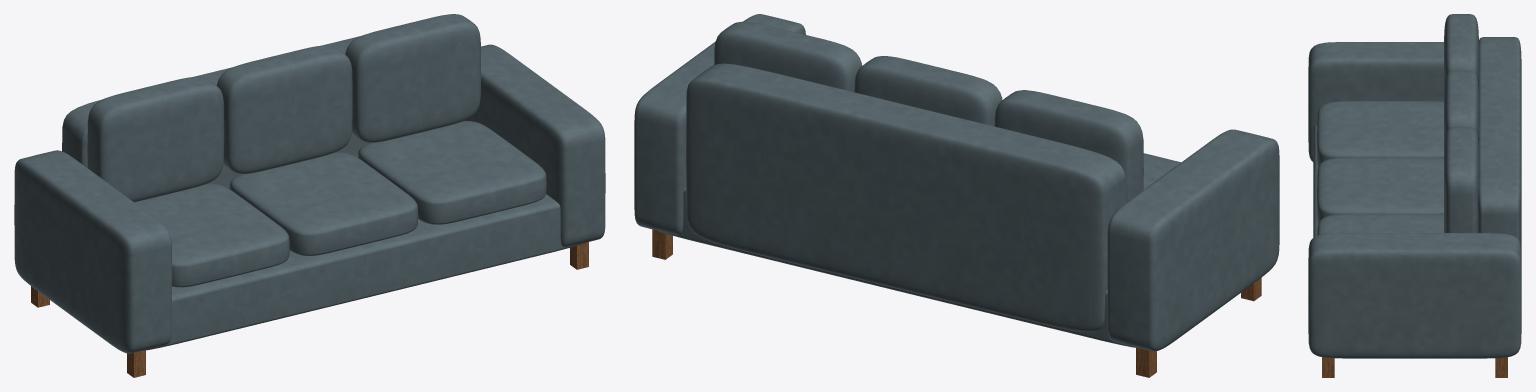
3 renders of one model, left to right at view 1: azimuth 30°, elevation 25°; view 2: azimuth 150°, elevation 25°; view 3: azimuth 270°, elevation 25°, orthographic. The views are drawn at different scales.
Parts seen in each view (by area): view 1: Sofa, three-seat; view 2: Sofa, three-seat; view 3: Sofa, three-seat.
Part boxes in pixels (x1,y1,x2,y2): Sofa, three-seat: [14, 14, 605, 377]; Sofa, three-seat: [634, 14, 1279, 377]; Sofa, three-seat: [1308, 14, 1521, 377].
Bounding box in the file's own units: 2 × 0.82 × 0.85.
Materials: 2 (2 with a texture image).
